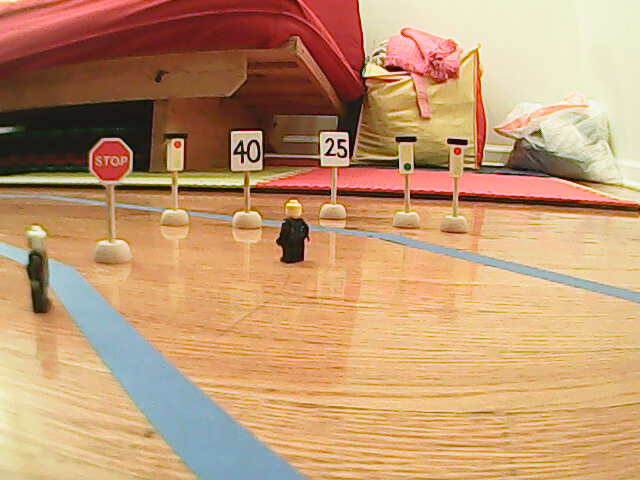Green Traffic Light: (394, 135, 419, 175)
Person: (21, 223, 56, 314), (275, 198, 310, 262)
Red Traffic Light: (445, 136, 466, 180), (162, 134, 186, 172)
Speed Limit 25: (319, 131, 350, 167)
Speed Limit 40: (229, 130, 264, 173)
Stop Sign: (86, 136, 135, 187)
